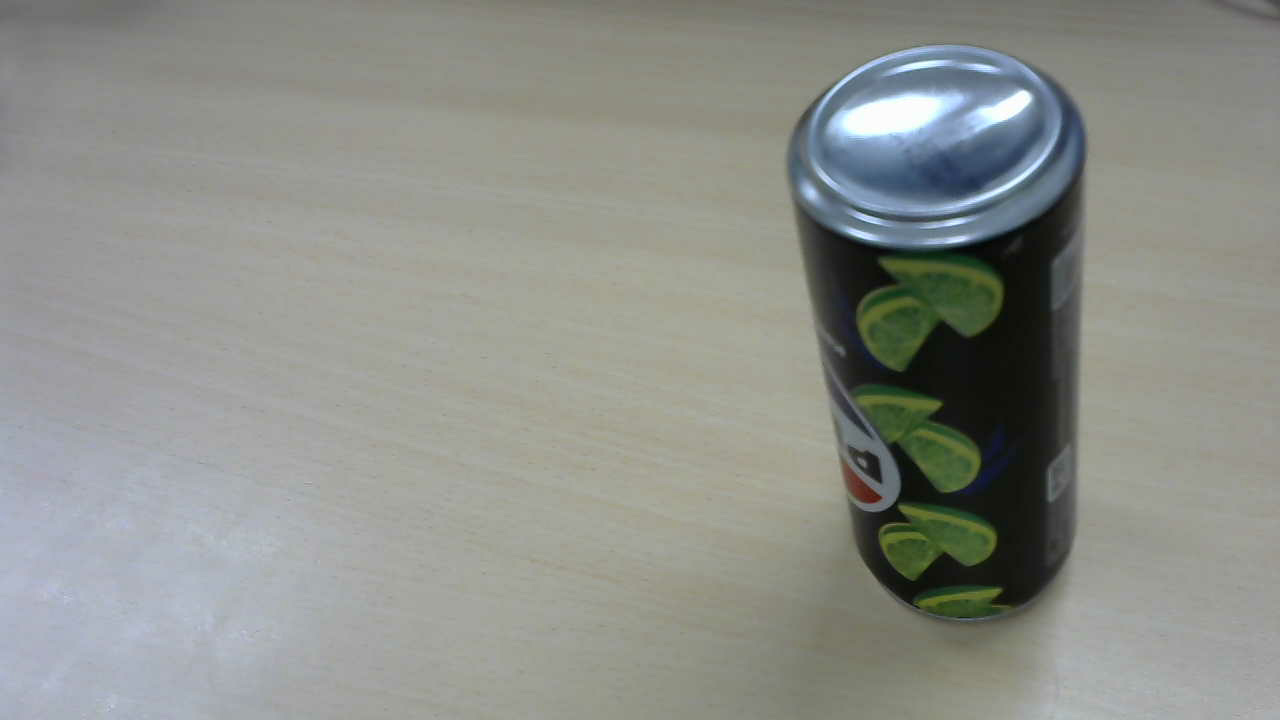Pepsi: (792, 50, 1092, 627)
